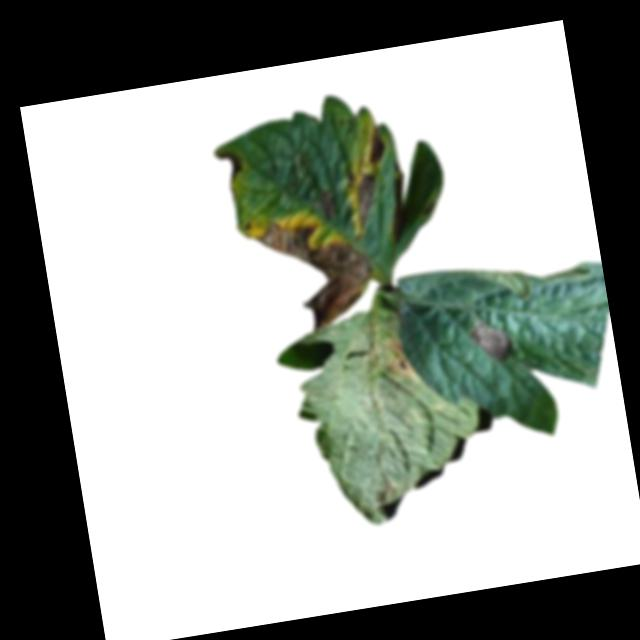Early_blight: (254, 205, 374, 338), (470, 317, 518, 366), (350, 167, 385, 229), (383, 331, 414, 376), (214, 145, 248, 184), (363, 125, 390, 168), (315, 185, 344, 220)
